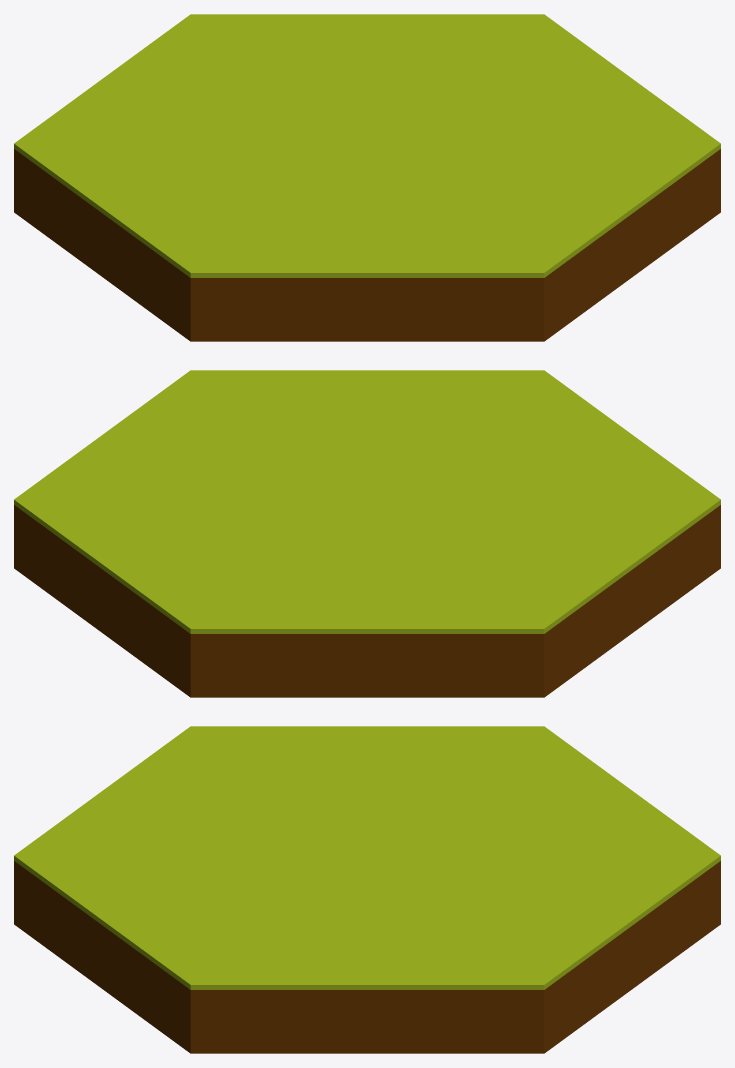
File: grass4.fbx
3 renders of one model, top to bottom at view 1: azimuth 30°, elevation 25°; view 2: azimuth 150°, elevation 25°; view 3: azimuth 270°, elevation 25°, orthographic.
Parts seen in each view (by area): view 1: pasted__pasted__pCylinder4; view 2: pasted__pasted__pCylinder4; view 3: pasted__pasted__pCylinder4.
Boxes of the visible parts, box(x1,y1,x2,y2) form: pasted__pasted__pCylinder4: box(14, 14, 720, 341); pasted__pasted__pCylinder4: box(14, 370, 720, 697); pasted__pasted__pCylinder4: box(14, 726, 720, 1053).
Bounding box in the file's own units: 1.73 × 0.2148 × 2.
